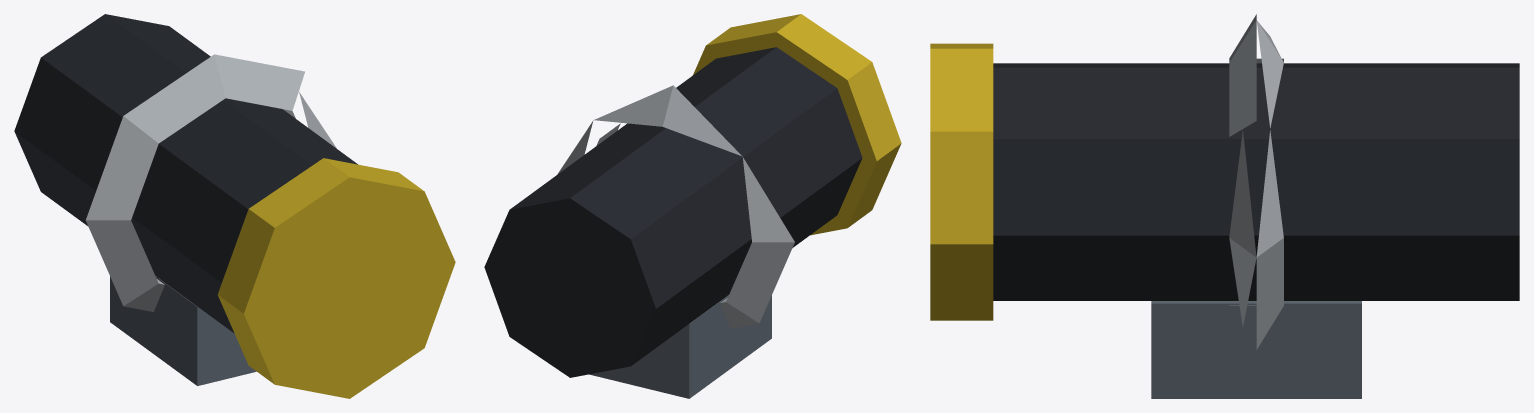
Rendered from collimator-deafening.lod.glb.
The picture shows the model from 3 angles, left to right: view 1: azimuth 30°, elevation 25°; view 2: azimuth 150°, elevation 25°; view 3: azimuth 270°, elevation 25°; orthographic projection. The views are drawn at different scales.
Visible parts, largest first — view 1: m; view 2: m; view 3: m.
Part boxes in pixels (bbox=[...]): m: bbox=[14, 14, 455, 398]; m: bbox=[484, 14, 901, 398]; m: bbox=[930, 14, 1519, 398].
Size of the model in its own units: 0.0364 by 0.0386 by 0.06.
